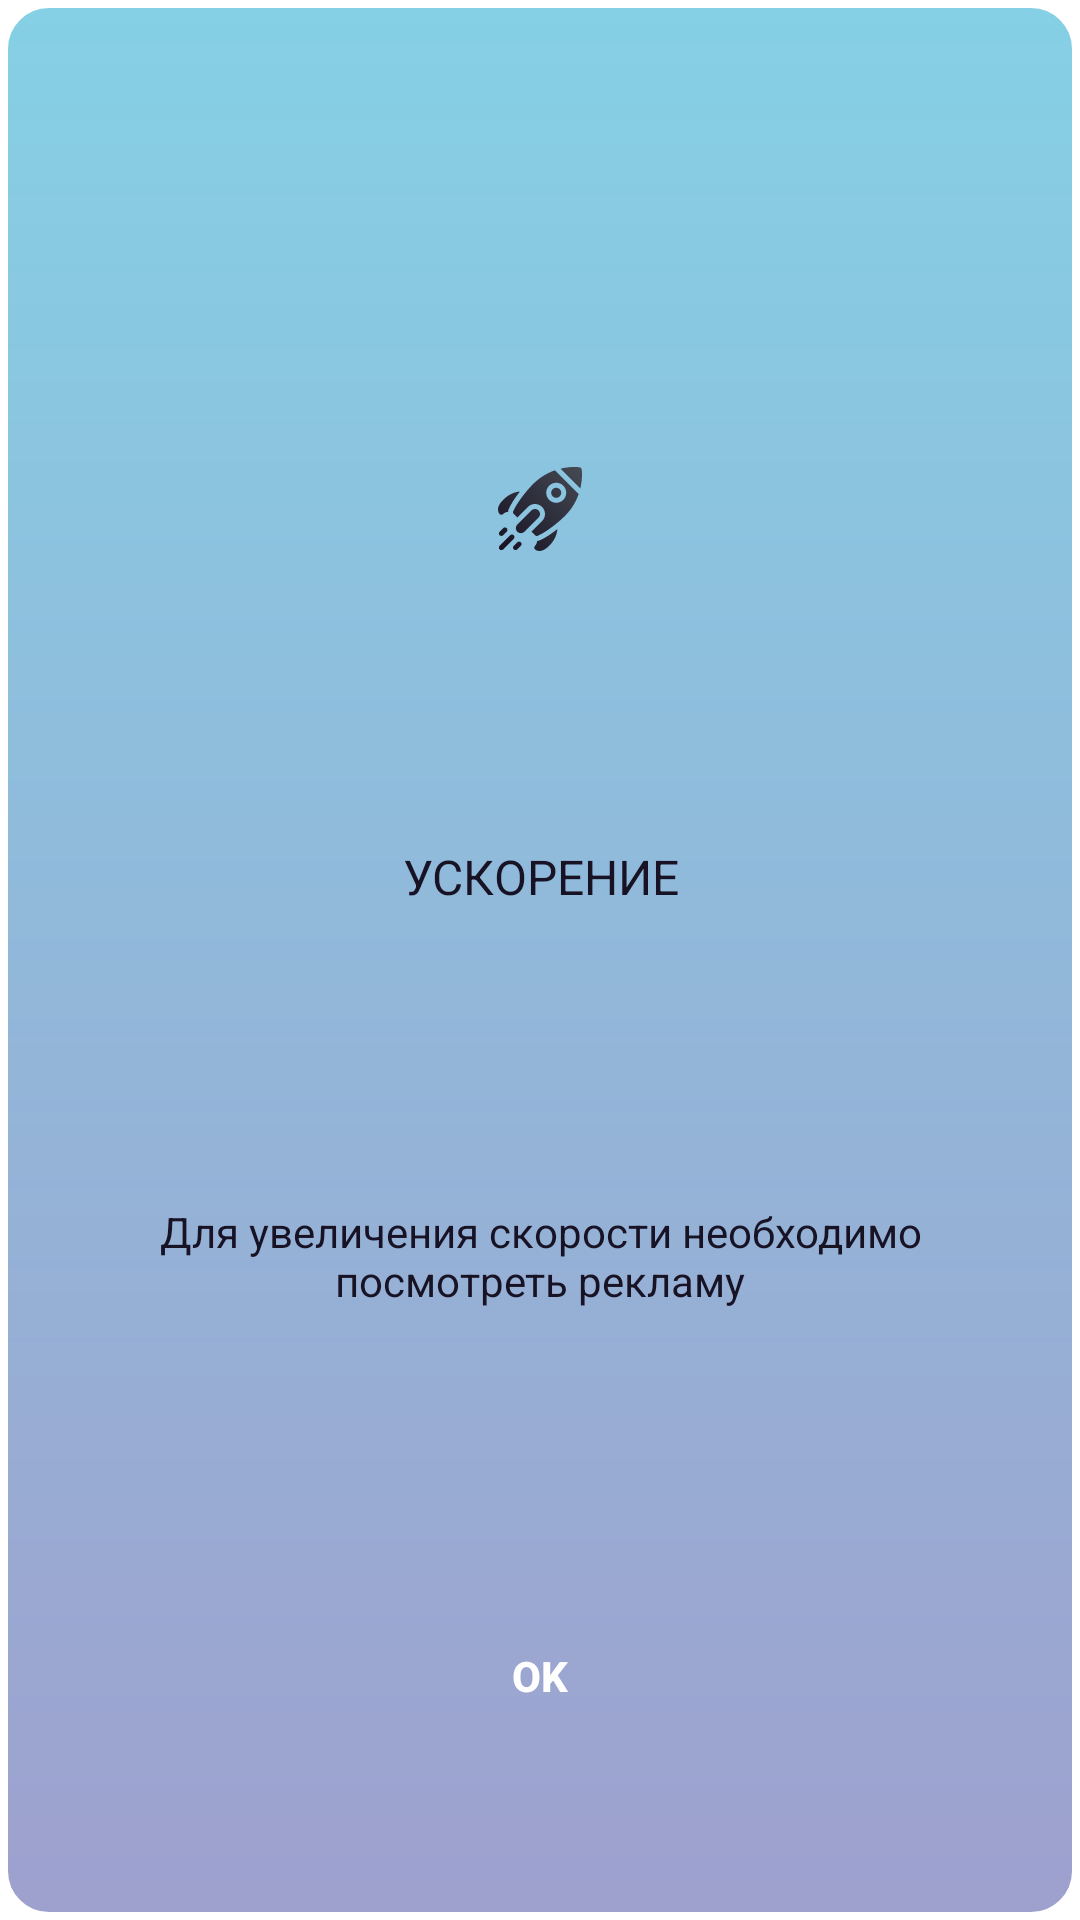

Icon bounding boxes for this 1080w x 1920h phone screenshot, format [x1=x1, y1=y1, x2=x2, y2=y2]:
rocket: [x1=498, y1=467, x2=582, y2=551]
